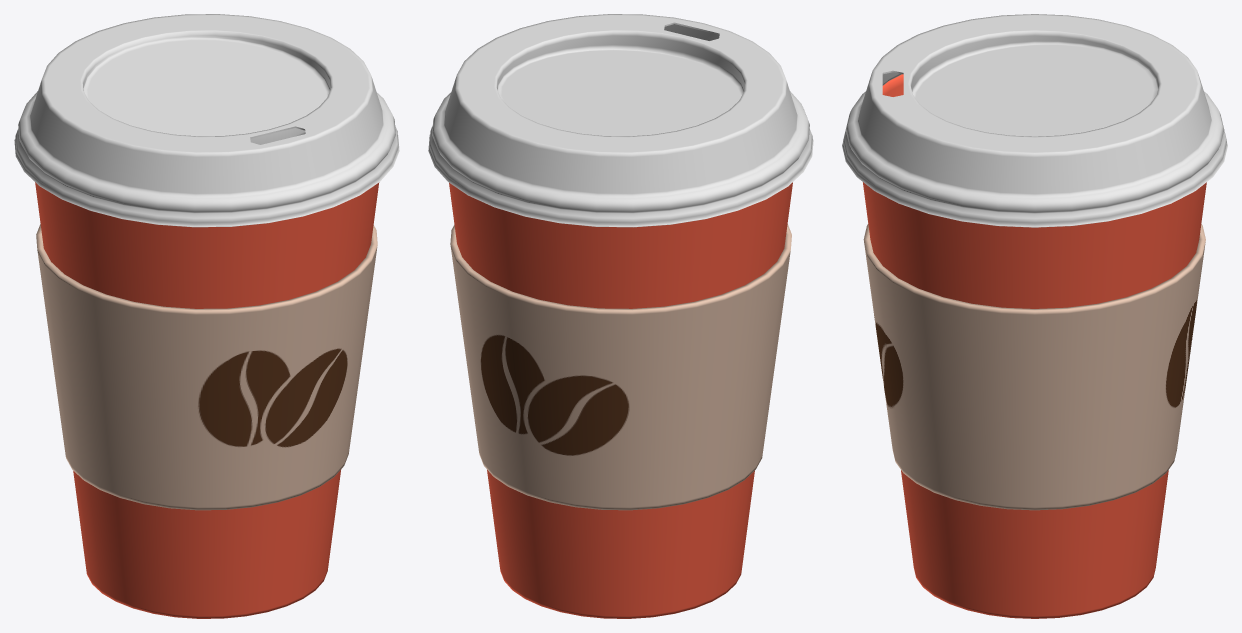
The model's file is coffee_odul.fbx.
3 views of the same model, side by side, from view 1: azimuth 30°, elevation 25°; view 2: azimuth 150°, elevation 25°; view 3: azimuth 270°, elevation 25° (orthographic).
Visible parts, largest first — view 1: coffee_cup; view 2: coffee_cup; view 3: coffee_cup.
Part boxes in pixels (box(x1,y1,x2,y2)): coffee_cup: box(14, 14, 399, 618); coffee_cup: box(428, 14, 813, 618); coffee_cup: box(842, 14, 1227, 618).
Size of the model in its own units: 261 by 361 by 261.
Materials: 3 (1 with a texture image).
